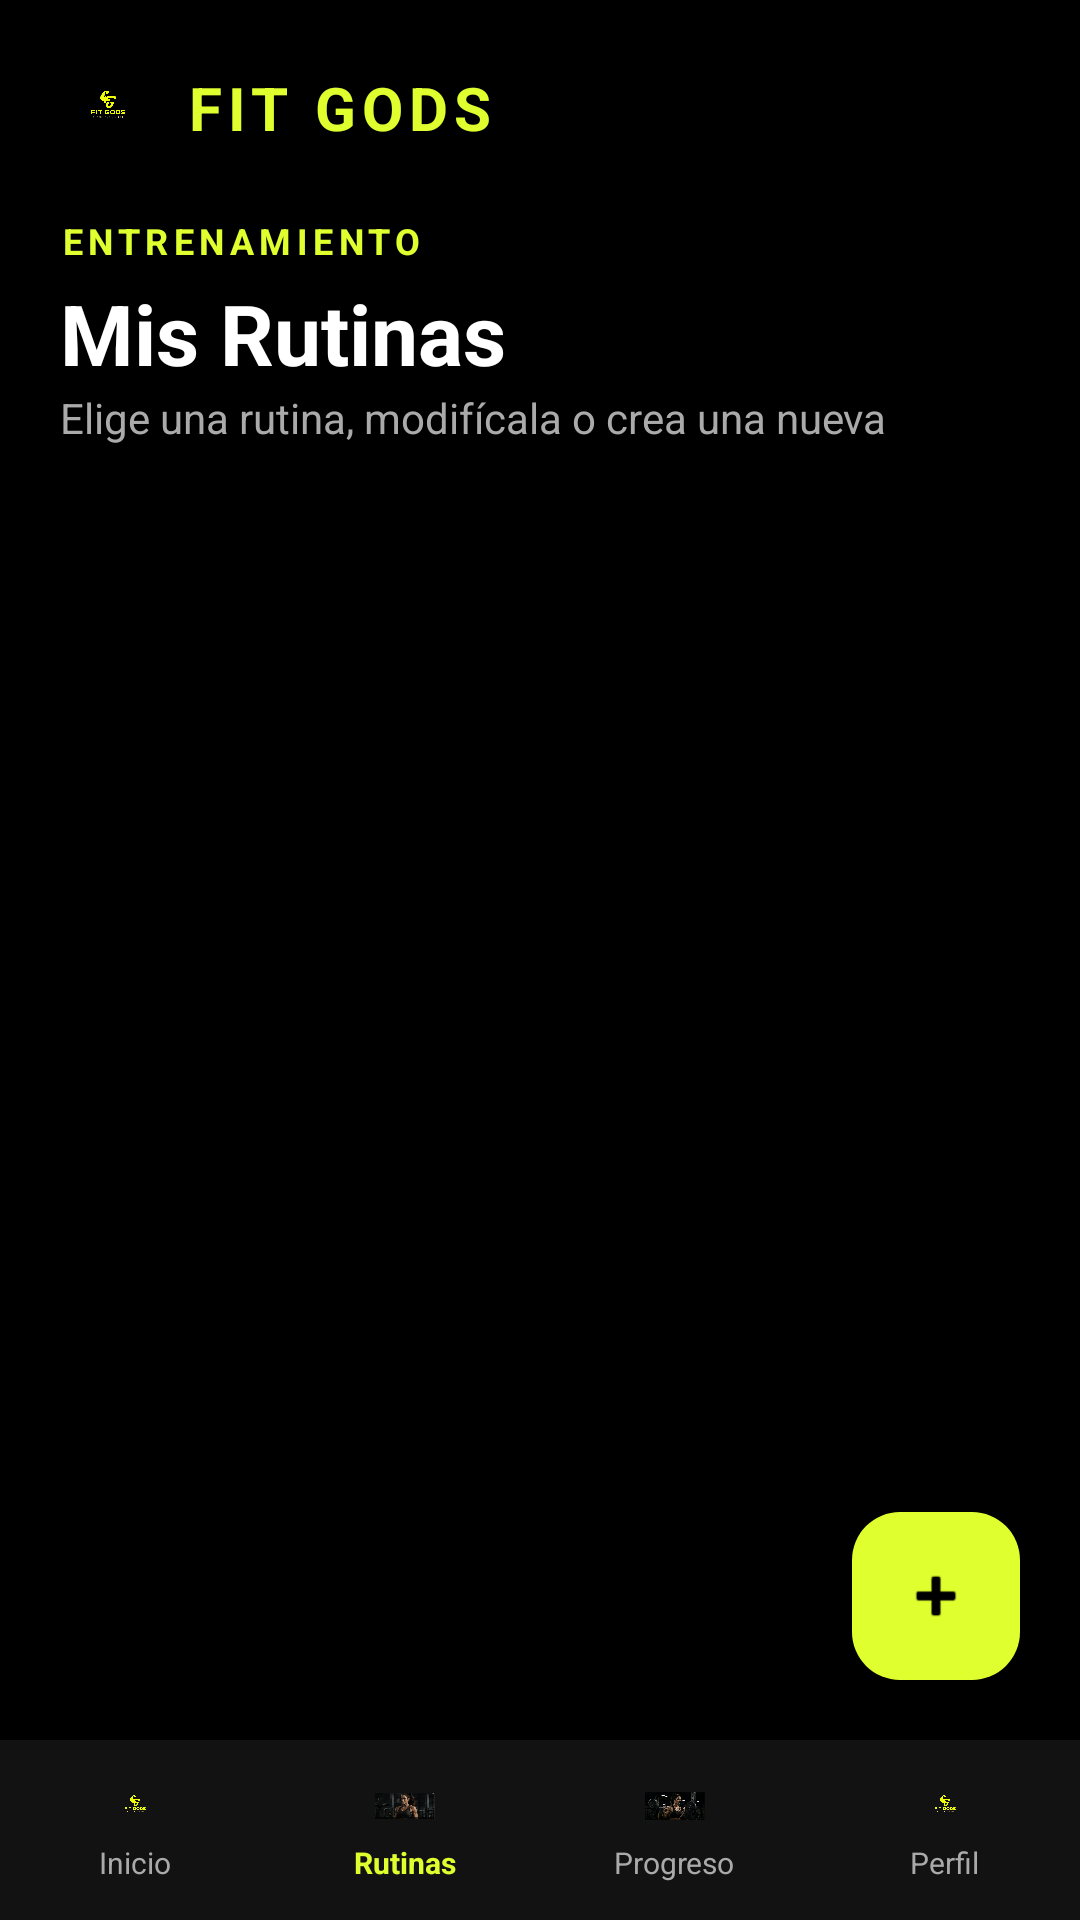

Named icons in this screenshot (1080×1920) and their bounding boxes, bbox(x1, y1, x2, y2):
Agregar Rutina: bbox(852, 1512, 1020, 1680)
